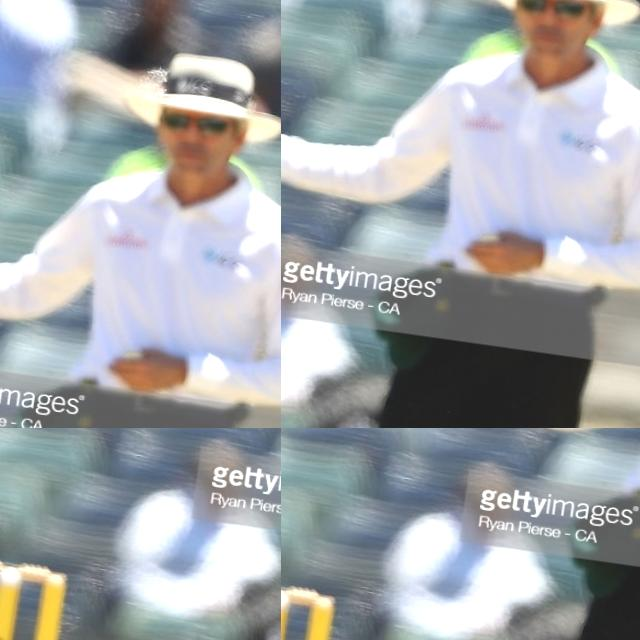No_Ball: (306, 428, 640, 640)
Out: (0, 0, 226, 273)
Six: (281, 0, 437, 219)
Wide: (5, 428, 281, 599)
